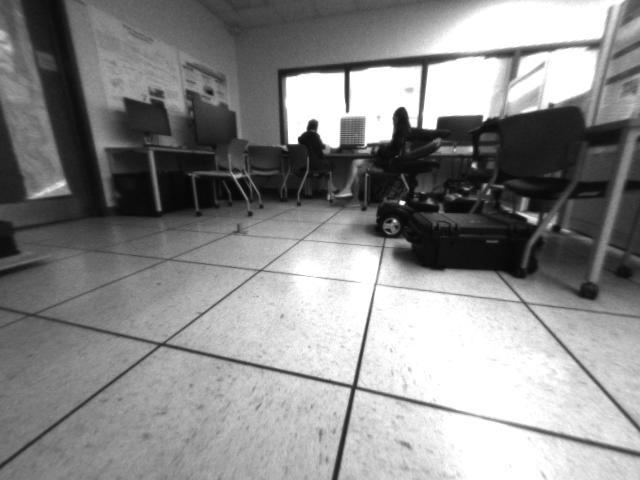x: (229, 222, 252, 235)
